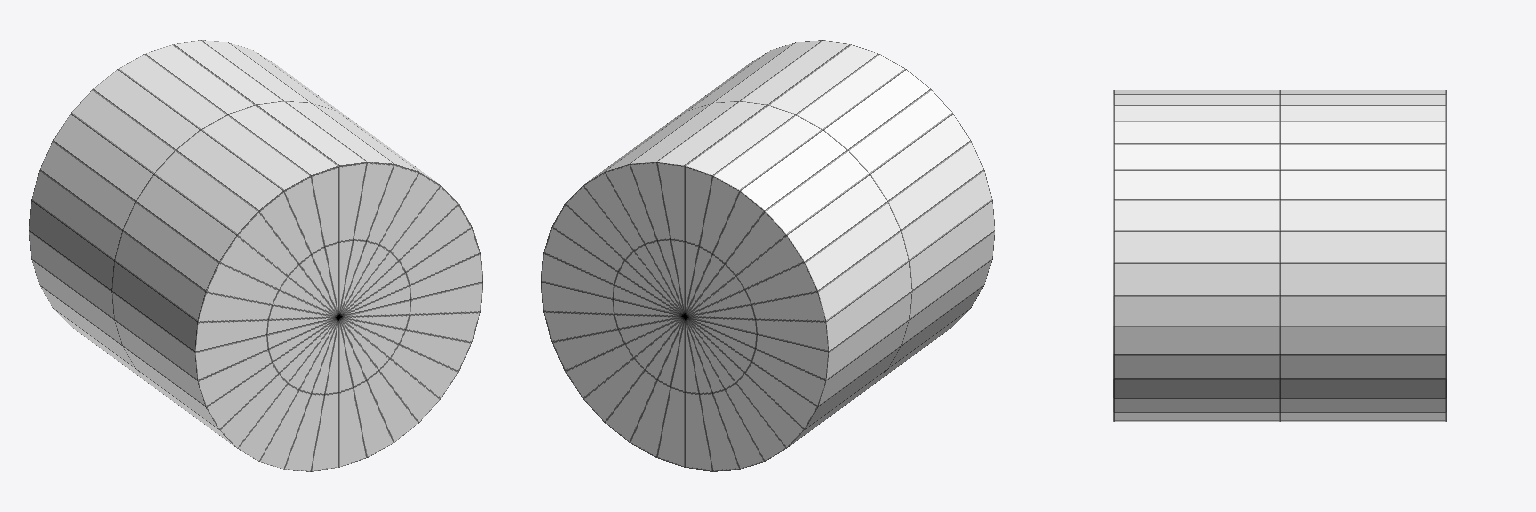
3 views of the same model, side by side, from view 1: azimuth 30°, elevation 25°; view 2: azimuth 150°, elevation 25°; view 3: azimuth 270°, elevation 25° (orthographic).
Parts seen in each view (by area): view 1: Cylinder; view 2: Cylinder; view 3: Cylinder.
Part boxes in pixels (bbox=[...]): Cylinder: bbox=[29, 40, 482, 471]; Cylinder: bbox=[541, 40, 994, 471]; Cylinder: bbox=[1113, 90, 1446, 421].
Bounding box in the file's own units: 1 × 1 × 1.
1 materials, 1 textured.